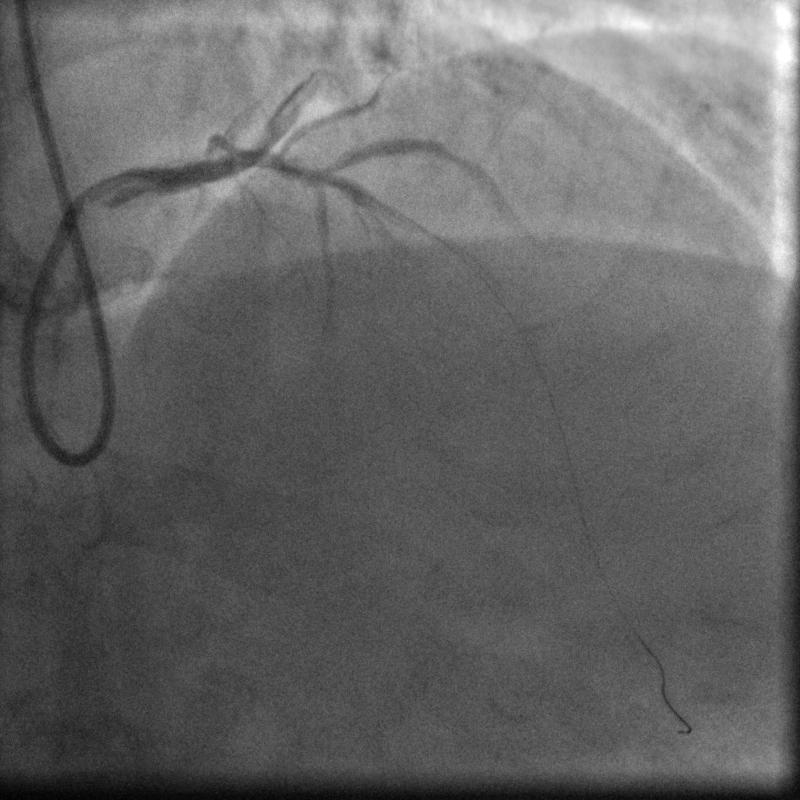Stenosis: (429, 135, 473, 175)
